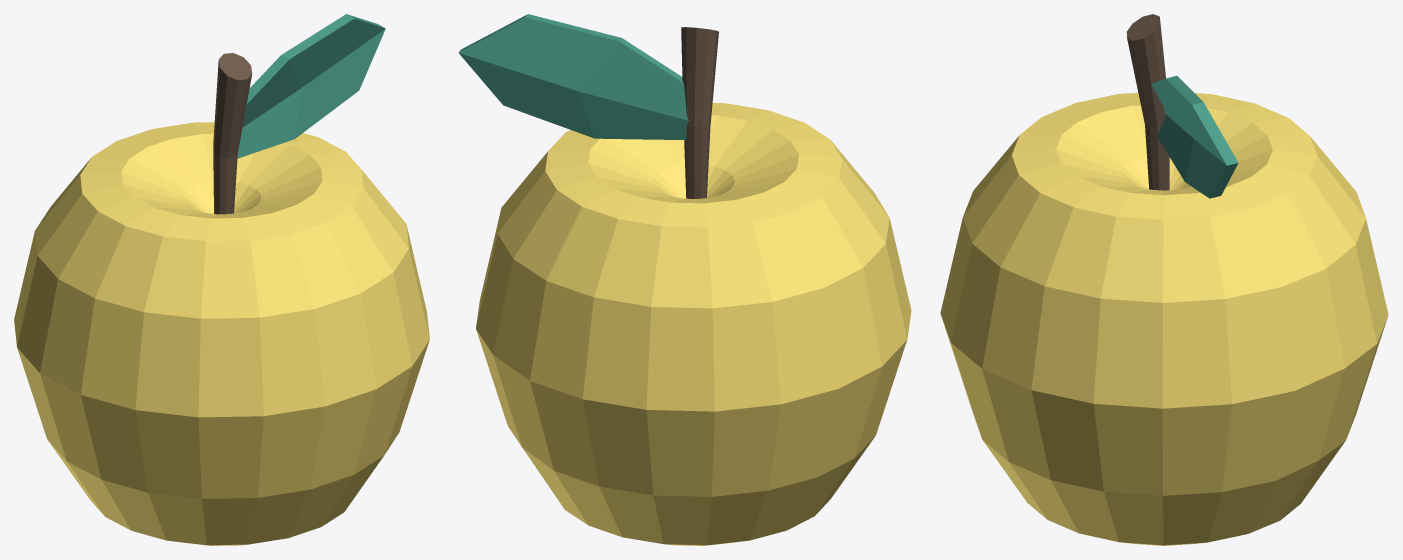
Rendered from Apple_2.fbx.
3 renders of one model, left to right at view 1: azimuth 30°, elevation 25°; view 2: azimuth 150°, elevation 25°; view 3: azimuth 270°, elevation 25°, orthographic. The views are drawn at different scales.
Visible parts, largest first — view 1: Apple_2; view 2: Apple_2; view 3: Apple_2.
Part boxes in pixels (x1=…): Apple_2: x1=14, y1=14, x2=429, y2=545; Apple_2: x1=458, y1=14, x2=911, y2=545; Apple_2: x1=940, y1=14, x2=1388, y2=545.
Size of the model in its own units: 14.08 by 13.63 by 16.32.
